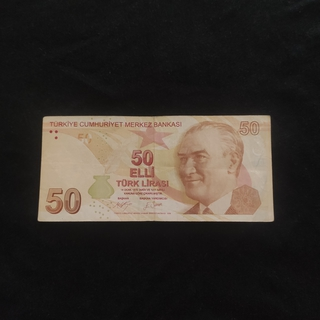50TLFront: (38, 114, 274, 222)
